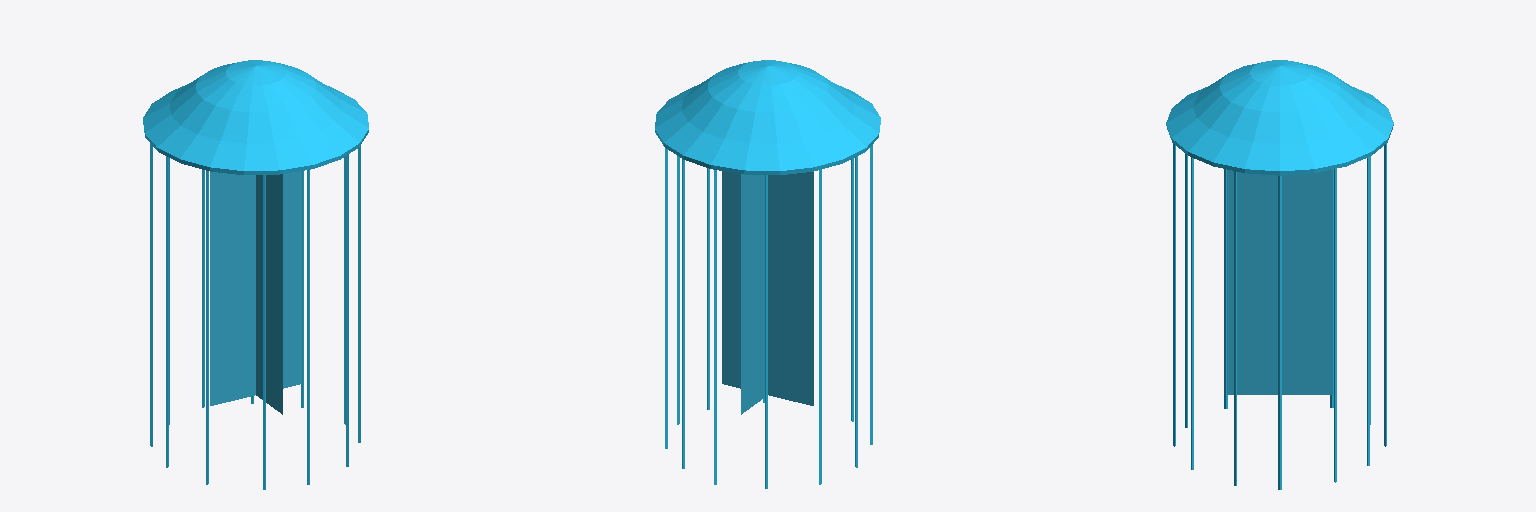
Rendered from ManaJelly_Early.obj.
3 views of the same model, side by side, from view 1: azimuth 30°, elevation 25°; view 2: azimuth 150°, elevation 25°; view 3: azimuth 270°, elevation 25° (orthographic).
Parts seen in each view (by area): view 1: ManaJelly_Cap, ManaJelly_TentaclePlane, ManaJelly_TentaclePlane1, ManaJelly_Arm2, ManaJelly_Arm8, ManaJelly_Arm9, ManaJelly_Arm7, ManaJelly_Arm, ManaJelly_Arm10, ManaJelly_Arm6, ManaJelly_Arm3, ManaJelly_Arm1; view 2: ManaJelly_Cap, ManaJelly_TentaclePlane, ManaJelly_TentaclePlane1, ManaJelly_Arm3, ManaJelly_Arm10, ManaJelly_Arm11, ManaJelly_Arm, ManaJelly_Arm4, ManaJelly_Arm5, ManaJelly_Arm9, ManaJelly_Arm1, ManaJelly_Arm8 (+1 smaller); view 3: ManaJelly_TentaclePlane1, ManaJelly_Cap, ManaJelly_Arm1, ManaJelly_Arm6, ManaJelly_Arm5, ManaJelly_Arm7, ManaJelly_Arm4, ManaJelly_Arm2, ManaJelly_Arm3, ManaJelly_Arm8, ManaJelly_Arm9.
Part boxes in pixels (x1,y1,x2,y2): ManaJelly_Cap: (143,60,368,174); ManaJelly_TentaclePlane: (210,171,301,405); ManaJelly_TentaclePlane1: (256,174,282,414); ManaJelly_Arm2: (307,170,309,484); ManaJelly_Arm8: (263,175,265,489); ManaJelly_Arm9: (206,171,208,484); ManaJelly_Arm7: (346,154,348,466); ManaJelly_Arm: (166,156,168,467); ManaJelly_Arm10: (150,144,152,446); ManaJelly_Arm6: (358,146,360,442); ManaJelly_Arm3: (202,170,204,407); ManaJelly_Arm1: (344,156,345,424); ManaJelly_Cap: (655,60,880,174); ManaJelly_TentaclePlane: (722,171,813,405); ManaJelly_TentaclePlane1: (741,174,764,414); ManaJelly_Arm3: (714,170,716,484); ManaJelly_Arm10: (819,170,821,484); ManaJelly_Arm11: (765,175,767,488); ManaJelly_Arm: (855,156,857,467); ManaJelly_Arm4: (682,159,684,468); ManaJelly_Arm5: (665,148,667,448); ManaJelly_Arm9: (870,145,872,444); ManaJelly_Arm1: (677,156,679,424); ManaJelly_Arm8: (851,158,853,421); ManaJelly_TentaclePlane1: (1227,170,1332,394); ManaJelly_Cap: (1166,60,1393,175); ManaJelly_Arm1: (1278,176,1281,489); ManaJelly_Arm6: (1234,171,1236,485); ManaJelly_Arm5: (1334,169,1336,482); ManaJelly_Arm7: (1191,157,1193,469); ManaJelly_Arm4: (1367,157,1369,465); ManaJelly_Arm2: (1173,144,1175,446); ManaJelly_Arm3: (1384,144,1386,446); ManaJelly_Arm8: (1185,154,1187,427); ManaJelly_Arm9: (1224,169,1227,408).
Bounding box in the file's own units: 2.15 × 3.95 × 2.15.